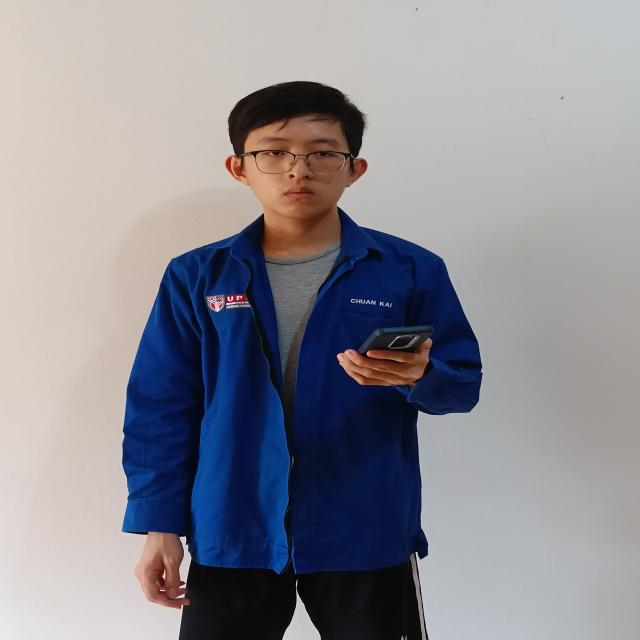person_with_labcoat: (123, 82, 481, 640)
